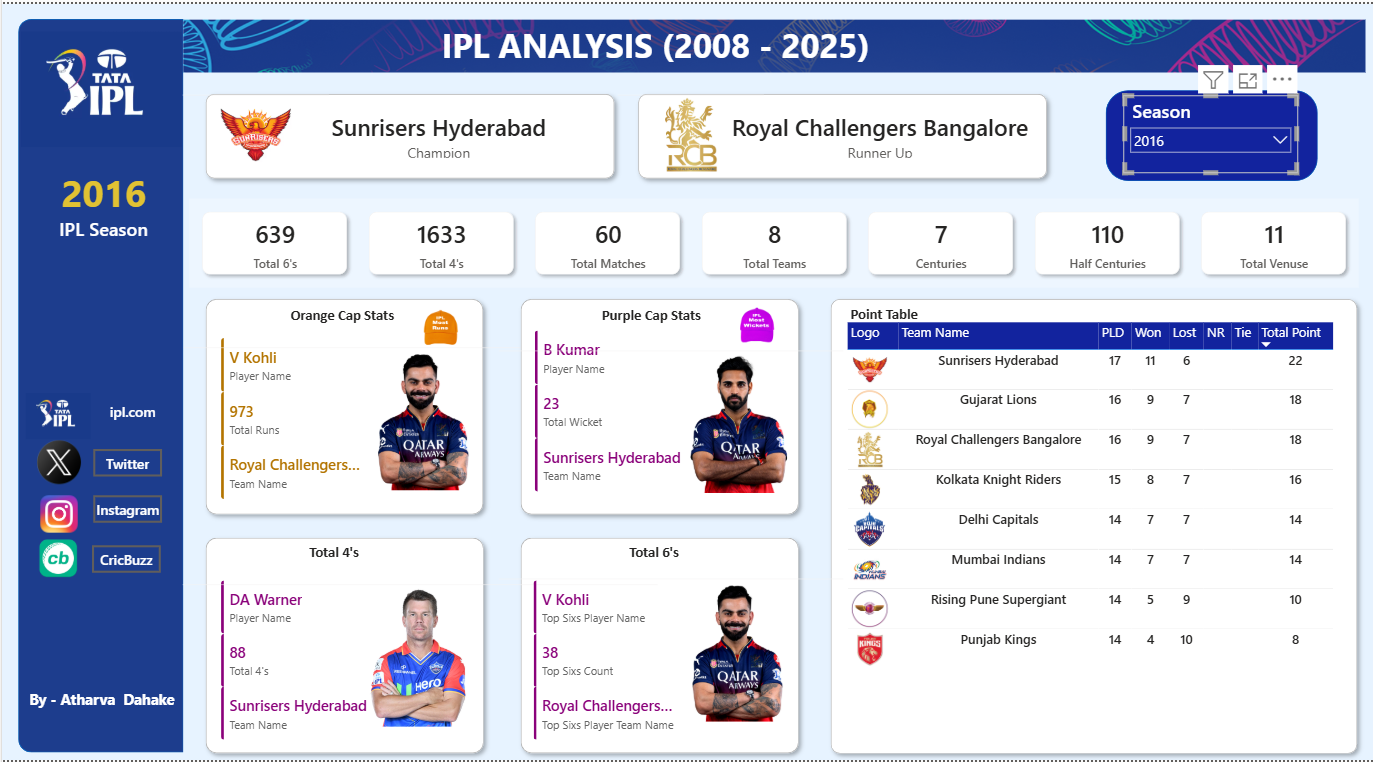

This screenshot's page, from the dashboard's own definition file:
{"tool":"powerbi","page":{"name":"Page 1","canvas":[2000,1100],"ordinal":0},"visuals":[{"type":"shape","box":[24,22,240,1066],"z":0},{"type":"shape","box":[1604,126,308,132],"z":1000},{"type":"shape","box":[1194.2,417.1,786.9,682.7],"z":2000},{"type":"shape","box":[285.8,417.9,425,335],"z":3000},{"type":"shape","box":[913.9,120,615.7,144.7],"z":4000},{"type":"shape","box":[285.8,120,615.7,144.7],"z":5000},{"type":"image","box":[262.6,15.5,1718.8,89.8],"z":6000},{"type":"textbox","box":[634,22,644,78],"z":7000},{"type":"slicer","fields":{"Values":["ipl_matches_data.season"]},"box":[1630,132,254,116],"z":8000},{"type":"actionButton","box":[0,0,100,40],"z":9000},{"type":"cardVisual","fields":{"Data":["ipl_matches_data.Season Winner"]},"box":[388.1,142.9,492.2,97],"z":10000},{"type":"cardVisual","fields":{"Data":["ipl_matches_data.Runner Up"]},"box":[1030.4,142.9,492.2,97],"z":11000},{"type":"cardVisual","fields":{"Data":["ipl_matches_data.Season Winner Logo"]},"box":[245.2,0,247,264.6],"z":12000},{"type":"cardVisual","fields":{"Data":["ipl_matches_data.Runner Up Team Logo"]},"box":[876.9,0,247,264.6],"z":13000},{"type":"cardVisual","fields":{"Data":["ipl_matches_data.Total 6's","ipl_matches_data.Total 4's","ipl_matches_data.Total Matches","ipl_matches_data.Total Teams","ipl_matches_data.Centuries","ipl_matches_data.Half Centuries","ipl_matches_data.Total Venuse"]},"box":[266.4,278.8,1714.9,139.4],"z":14000},{"type":"cardVisual","fields":{"Data":["ipl_matches_data.Orange Cap Holder","ipl_matches_data.Orange Cap Runs","ipl_matches_data.Orange Cap Team Name"]},"box":[301.6,469.2,274,268.1],"z":15000},{"type":"textbox","box":[414,433.7,179.4,47.3],"z":16000},{"type":"cardVisual","fields":{"Data":["ipl_matches_data.Orange Cap Image"]},"box":[247.9,273.5,726,450.5],"z":17000},{"type":"image","box":[607.1,443.5,62,54],"z":18000},{"type":"shape","box":[743.2,417.9,425.8,335.1],"z":19000},{"type":"shape","box":[285.8,764.8,425.8,335.1],"z":20000},{"type":"shape","box":[743.2,764.8,425.8,335.1],"z":21000},{"type":"cardVisual","fields":{"Data":["ipl_matches_data.PurpleCapHolder","ipl_matches_data.PurpleCapWicketCount","ipl_matches_data.PurpleCapTeam"]},"box":[757,457.3,274,268.1],"z":22000},{"type":"cardVisual","fields":{"Data":["ipl_matches_data.PurpleCapImage"]},"box":[704.3,279.4,724,448.6],"z":23000},{"type":"textbox","box":[867.3,433.7,179.4,47.3],"z":24000},{"type":"image","box":[1066.4,439.6,62,54],"z":25000},{"type":"cardVisual","fields":{"Data":["ipl_matches_data.Top Fours Player Name","ipl_matches_data.Top Fours Count","ipl_matches_data.Top Fours Player Team Name"]},"box":[302.3,820.5,274.7,267.7],"z":26000},{"type":"textbox","box":[441.6,778.6,165.6,41.4],"z":27000},{"type":"cardVisual","fields":{"Data":["ipl_matches_data.Orange Cap Image"]},"box":[245.9,619.7,726,448.6],"z":28000},{"type":"cardVisual","fields":{"Data":["ipl_matches_data.Top Sixs Player Name","ipl_matches_data.Top Sixs Count","ipl_matches_data.Top Sixs Player Team Name"]},"box":[755.5,820.4,275.4,267.6],"z":29000},{"type":"textbox","box":[906.8,778.6,92.6,55.2],"z":30000},{"type":"cardVisual","fields":{"Data":["ipl_matches_data.Top Sixs Player Image"]},"box":[704.3,609.9,724,450.5],"z":31000},{"type":"tableEx","fields":{"Values":["teams_data.image_url","teams_data.team_name","ipl_matches_data.Matches Played","ipl_matches_data.Matches Won","ipl_matches_data.Matches Lost","ipl_matches_data.No Result Matches","ipl_matches_data.Tie Matches","ipl_matches_data.Total Point"]},"box":[1222.2,457.8,730,622.2],"z":32000},{"type":"textbox","box":[1228.3,431.7,200,38.3],"z":33000},{"type":"image","box":[24,40,242,168],"z":34000},{"type":"card","fields":{"Values":["ipl_matches_data.IPL Season"]},"box":[34,190,227,198],"z":35000},{"type":"actionButton","box":[130,556,118,72],"z":36000},{"type":"image","box":[34,494,94,210],"z":37000},{"type":"image","box":[50,634,64,64],"z":38000},{"type":"actionButton","box":[132,646,100,40],"z":39000},{"type":"image","box":[50,714,64,54],"z":40000},{"type":"actionButton","box":[132,714,100,40],"z":41000},{"type":"actionButton","box":[130,786,100,40],"z":42000},{"type":"image","box":[34,778,94,56],"z":43000},{"type":"textbox","box":[34,990,248,110],"z":44000}]}

Visuals, with their boxes in screenshot pixels (x1, y1, x2, y2), scaled from the page's 2000x1100 canvas onto the 1373x762 screenshot:
shape: locate(16, 15, 181, 754)
shape: locate(1101, 87, 1313, 179)
shape: locate(820, 289, 1360, 761)
shape: locate(196, 289, 488, 522)
shape: locate(627, 83, 1050, 183)
shape: locate(196, 83, 619, 183)
image: locate(180, 11, 1360, 73)
textbox: locate(435, 15, 877, 69)
slicer - ipl_matches_data.season: locate(1119, 91, 1293, 172)
actionButton: locate(0, 0, 69, 28)
cardVisual - ipl_matches_data.Season Winner: locate(266, 99, 604, 166)
cardVisual - ipl_matches_data.Runner Up: locate(707, 99, 1045, 166)
cardVisual - ipl_matches_data.Season Winner Logo: locate(168, 0, 338, 183)
cardVisual - ipl_matches_data.Runner Up Team Logo: locate(602, 0, 772, 183)
cardVisual - ipl_matches_data.Total 6's x ipl_matches_data.Total 4's: locate(183, 193, 1360, 290)
cardVisual - ipl_matches_data.Orange Cap Holder x ipl_matches_data.Orange Cap Runs: locate(207, 325, 395, 511)
textbox: locate(284, 300, 407, 333)
cardVisual - ipl_matches_data.Orange Cap Image: locate(170, 189, 669, 502)
image: locate(417, 307, 459, 345)
shape: locate(510, 289, 803, 522)
shape: locate(196, 530, 489, 761)
shape: locate(510, 530, 803, 761)
cardVisual - ipl_matches_data.PurpleCapHolder x ipl_matches_data.PurpleCapWicketCount: locate(520, 317, 708, 503)
cardVisual - ipl_matches_data.PurpleCapImage: locate(484, 194, 981, 504)
textbox: locate(595, 300, 719, 333)
image: locate(732, 305, 775, 342)
cardVisual - ipl_matches_data.Top Fours Player Name x ipl_matches_data.Top Fours Count: locate(208, 568, 396, 754)
textbox: locate(303, 539, 417, 568)
cardVisual - ipl_matches_data.Orange Cap Image: locate(169, 429, 667, 740)
cardVisual - ipl_matches_data.Top Sixs Player Name x ipl_matches_data.Top Sixs Count: locate(519, 568, 708, 754)
textbox: locate(623, 539, 686, 578)
cardVisual - ipl_matches_data.Top Sixs Player Image: locate(484, 422, 981, 735)
tableEx - teams_data.image_url x teams_data.team_name: locate(839, 317, 1340, 748)
textbox: locate(843, 299, 981, 326)
image: locate(16, 28, 183, 144)
card - ipl_matches_data.IPL Season: locate(23, 132, 179, 269)
actionButton: locate(89, 385, 170, 435)
image: locate(23, 342, 88, 488)
image: locate(34, 439, 78, 484)
actionButton: locate(91, 448, 159, 475)
image: locate(34, 495, 78, 532)
actionButton: locate(91, 495, 159, 522)
actionButton: locate(89, 544, 158, 572)
image: locate(23, 539, 88, 578)
textbox: locate(23, 686, 194, 761)
